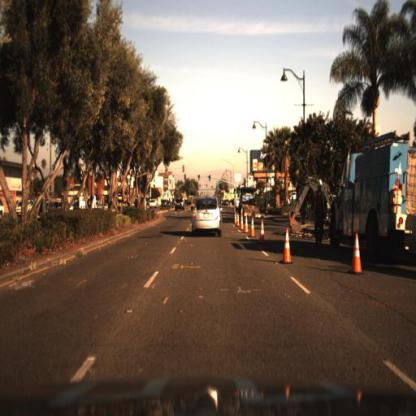car: (191, 194, 224, 239), (236, 186, 265, 226), (174, 196, 187, 217), (148, 195, 160, 209), (148, 199, 158, 211)
pedestrian: (313, 175, 329, 249)
truck: (330, 140, 416, 261), (236, 188, 261, 214)
